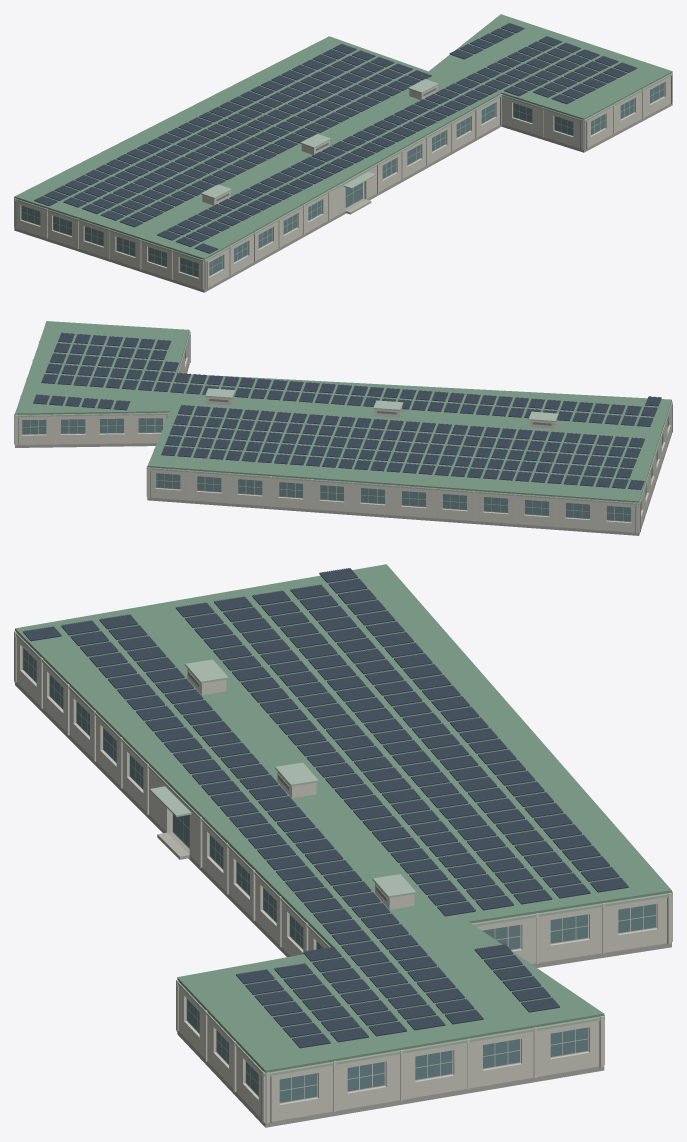
3 views of the same model, one above another, from view 1: azimuth 30°, elevation 25°; view 2: azimuth 150°, elevation 25°; view 3: azimuth 270°, elevation 25° (orthographic). The views are drawn at different scales.
Parts seen in each view (by area): view 1: northwide__solar, northwide__roof, northwide__wall-cream, northwide__pvrail, northwide__glass, northwide__trim, northwide__floor-structure, northwide__frame, northwide__solar-grid, northwide__metal; view 2: northwide__solar, northwide__roof, northwide__wall-cream, northwide__pvrail, northwide__glass, northwide__trim, northwide__floor-structure, northwide__frame, northwide__solar-grid, northwide__metal; view 3: northwide__solar, northwide__roof, northwide__wall-cream, northwide__pvrail, northwide__glass, northwide__trim, northwide__floor-structure, northwide__frame, northwide__solar-grid.
Part boxes in pixels (left/top/right/bottom): northwide__solar: left=34, top=23, right=637, bottom=253; northwide__roof: left=14, top=14, right=672, bottom=259; northwide__wall-cream: left=14, top=72, right=672, bottom=289; northwide__pvrail: left=34, top=24, right=636, bottom=252; northwide__glass: left=21, top=82, right=663, bottom=277; northwide__trim: left=14, top=74, right=671, bottom=261; northwide__floor-structure: left=14, top=103, right=672, bottom=292; northwide__frame: left=21, top=82, right=664, bottom=277; northwide__solar-grid: left=40, top=28, right=622, bottom=250; northwide__metal: left=15, top=76, right=671, bottom=289; northwide__solar: left=33, top=333, right=661, bottom=489; northwide__roof: left=15, top=321, right=671, bottom=502; northwide__wall-cream: left=14, top=322, right=672, bottom=533; northwide__pvrail: left=33, top=332, right=661, bottom=488; northwide__glass: left=22, top=350, right=668, bottom=521; northwide__trim: left=14, top=332, right=672, bottom=504; northwide__floor-structure: left=15, top=363, right=671, bottom=535; northwide__frame: left=21, top=351, right=669, bottom=522; northwide__solar-grid: left=38, top=335, right=656, bottom=486; northwide__metal: left=18, top=334, right=672, bottom=533; northwide__solar: left=23, top=568, right=628, bottom=1048; northwide__roof: left=15, top=564, right=671, bottom=1072; northwide__wall-cream: left=14, top=631, right=672, bottom=1123; northwide__pvrail: left=23, top=568, right=628, bottom=1046; northwide__glass: left=23, top=648, right=655, bottom=1102; northwide__trim: left=15, top=633, right=672, bottom=1076; northwide__floor-structure: left=15, top=682, right=671, bottom=1127; northwide__frame: left=22, top=647, right=656, bottom=1103; northwide__solar-grid: left=34, top=570, right=617, bottom=1043.
Size of the model in its own units: 91.39 by 5.98 by 50.15.
